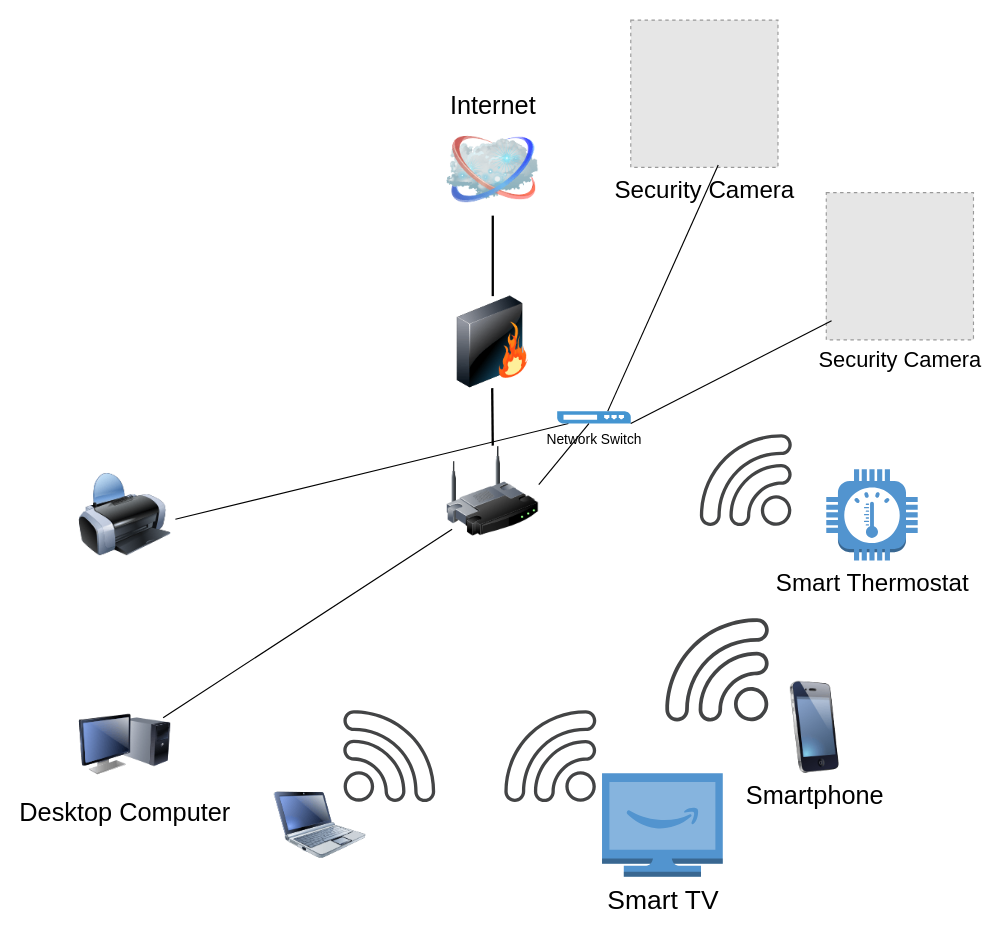
This 1002x937 diagram has some shape labels left out. Grey dashed boxes stand in for pictures. Each missing label, with the box of its shape:
Firewall: (446, 296, 538, 388)
ISP Router: (446, 445, 538, 537)
Laptop: (274, 779, 366, 871)
Printer: (78, 468, 170, 560)
